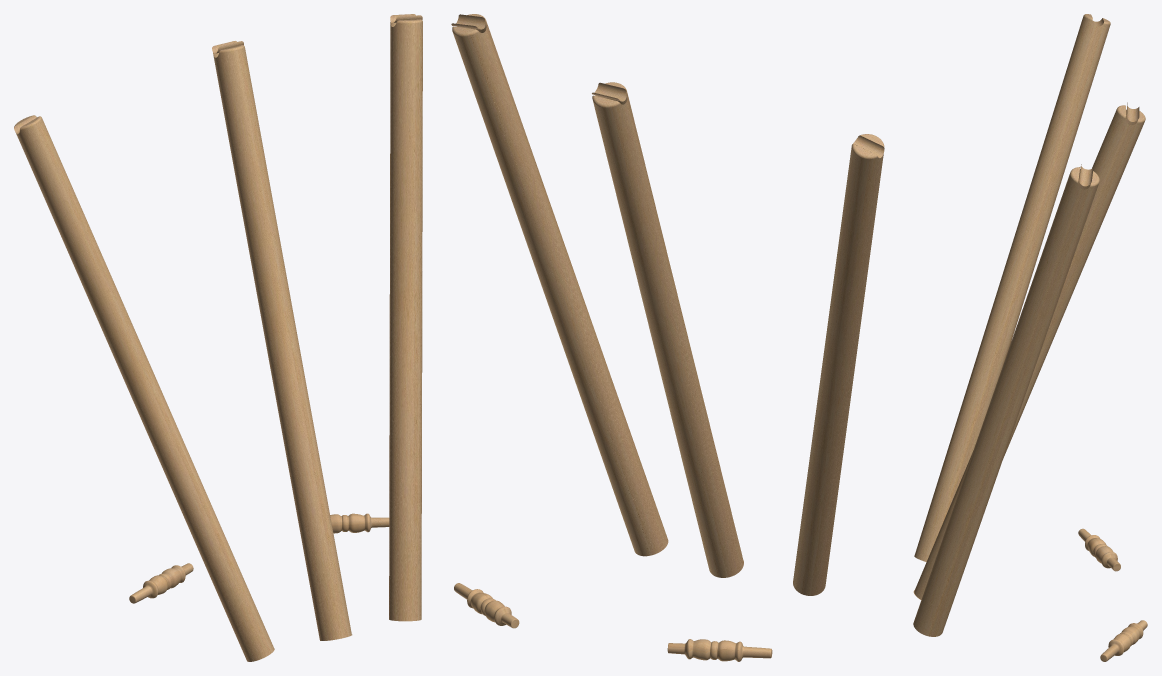
File: BrokenStumps.fbx
3 views of the same model, side by side, from view 1: azimuth 30°, elevation 25°; view 2: azimuth 150°, elevation 25°; view 3: azimuth 270°, elevation 25° (orthographic). The views are drawn at different scales.
Visible parts, largest first — view 1: polySurface43; view 2: polySurface43; view 3: polySurface43.
Part boxes in pixels (x1,y1,x2,y2): polySurface43: (14, 14, 422, 661); polySurface43: (451, 14, 884, 661); polySurface43: (913, 14, 1147, 661).
Size of the model in its own units: 46.52 by 59.54 by 25.08.
1 material, 1 textured.
